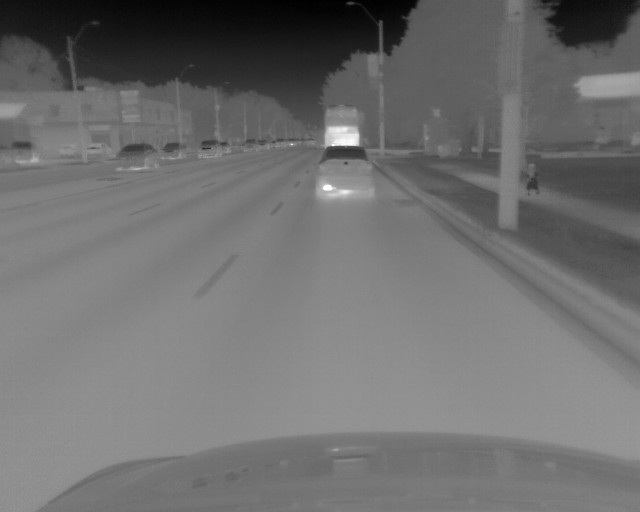car: (315, 145, 374, 198), (322, 105, 360, 148), (113, 143, 159, 171), (9, 142, 39, 164), (83, 142, 110, 161), (196, 139, 221, 158), (160, 142, 185, 160), (57, 143, 78, 160), (242, 139, 258, 153), (219, 143, 232, 156), (258, 139, 269, 150), (287, 139, 299, 148), (276, 138, 285, 149), (304, 138, 315, 147)
people: (524, 162, 541, 197)
